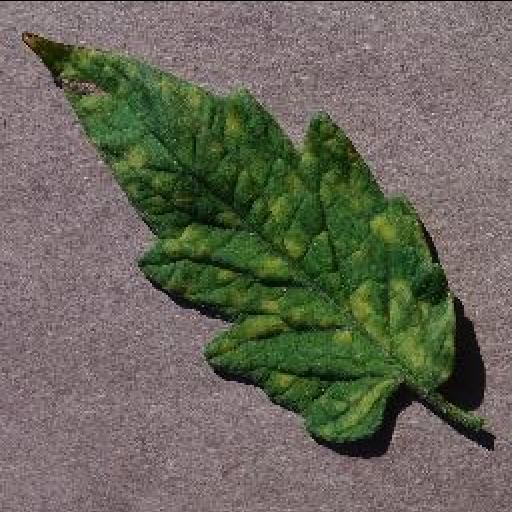disease_tomato: (18, 30, 456, 440)
